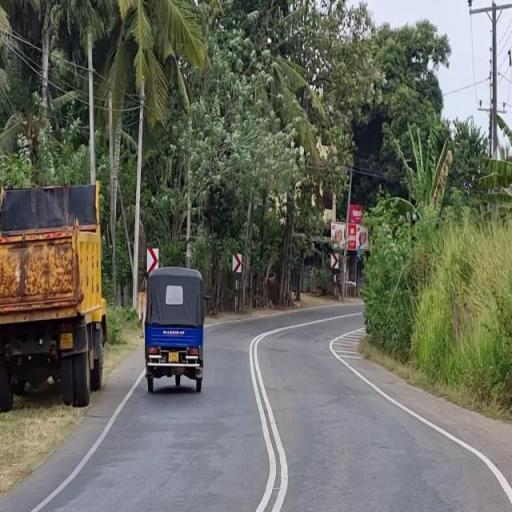double_white_line: (332, 324, 511, 506), (27, 366, 139, 510), (246, 326, 292, 512)
